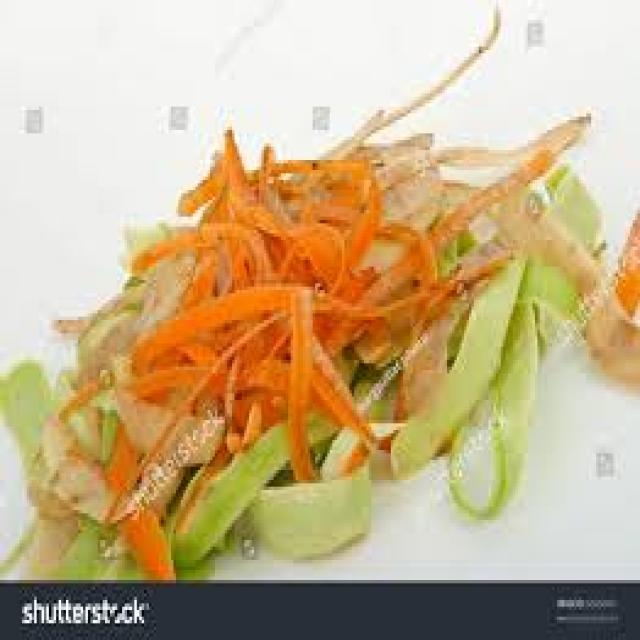Organik: (0, 138, 640, 556), (366, 5, 513, 132)
